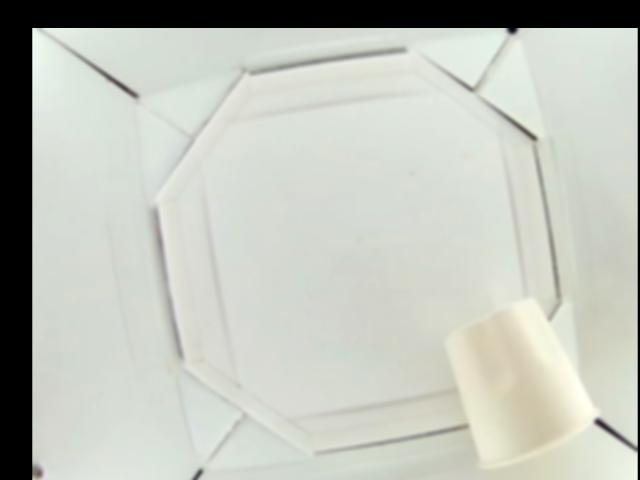Cup: (447, 296, 601, 465)
